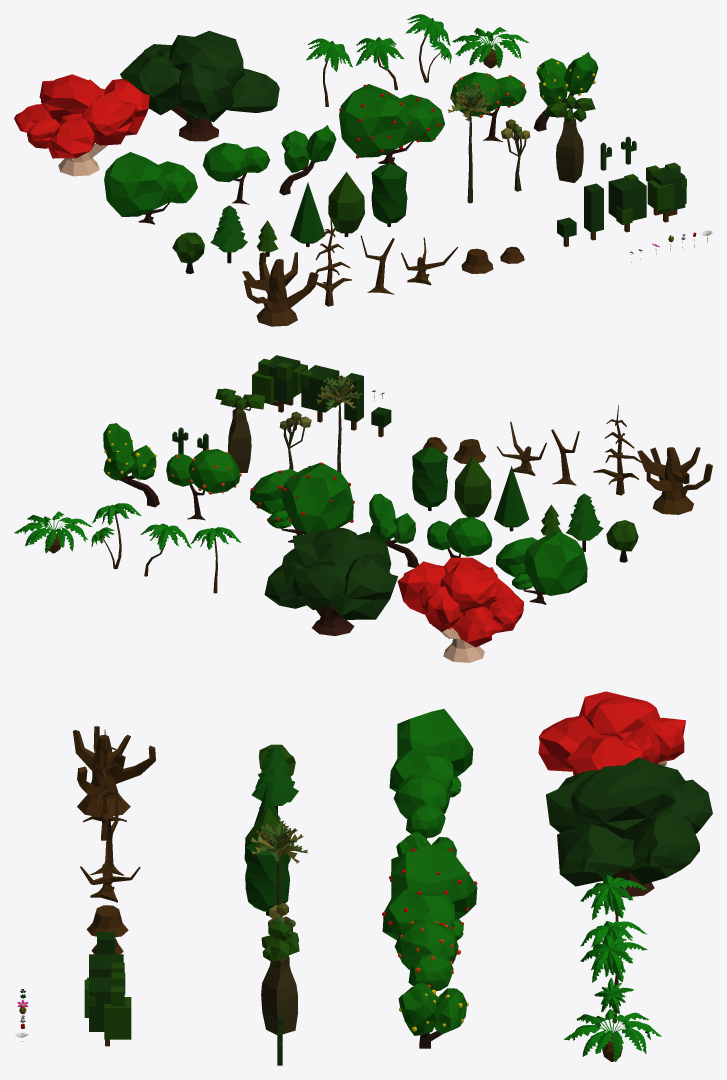
Rendered from Tree+Collection.obj.
3 views of the same model, one above another, from view 1: azimuth 30°, elevation 25°; view 2: azimuth 150°, elevation 25°; view 3: azimuth 270°, elevation 25° (orthographic). The views are drawn at different scales.
Visible parts, largest first — view 1: Large_Tree_02_(Green)_Icosphere.013, Large_Tree_01_(Red)_Icosphere.017, Fruit_Tree_01_-_Red_Plane.1207, Fruitless_Tree_01_Plane.1201, Dry_Tree_01_Icosphere.000, Fruit_Tree_03_-_Yellow_Plane.1208, Baoba_01_Plane.002, Fruitless_Tree_02_Plane.1200, Fruit_Tree_02_-_Orange_Plane.1206, Fruitless_Tree_03_Plane.1202, Casual_Tree_06_Cone.016, Block_Tree_04_Cube.008 (+16 smaller); view 2: Large_Tree_02_(Green)_Icosphere.013, Large_Tree_01_(Red)_Icosphere.017, Fruit_Tree_01_-_Red_Plane.1207, Fruitless_Tree_01_Plane.1201, Fruit_Tree_02_-_Orange_Plane.1206, Dry_Tree_01_Icosphere.000, Fruit_Tree_03_-_Yellow_Plane.1208, Block_Tree_04_Cube.008, Fruitless_Tree_02_Plane.1200, Fruitless_Tree_03_Plane.1202, Casual_Tree_06_Cone.016, Baoba_01_Plane.002 (+16 smaller); view 3: Large_Tree_02_(Green)_Icosphere.013, Large_Tree_01_(Red)_Icosphere.017, Fruit_Tree_01_-_Red_Plane.1207, Fruitless_Tree_01_Plane.1201, Baoba_01_Plane.002, Fruit_Tree_02_-_Orange_Plane.1206, Dry_Tree_01_Icosphere.000, Fruit_Tree_03_-_Yellow_Plane.1208, Block_Tree_04_Cube.008, Fruitless_Tree_02_Plane.1200, Casual_Tree_06_Cone.016, Palm_Tree_04_Cylinder.002 (+10 smaller).
Boxes of the visible parts, left/top/right/bottom form: Large_Tree_02_(Green)_Icosphere.013: left=120, top=30, right=279, bottom=141; Large_Tree_01_(Red)_Icosphere.017: left=14, top=74, right=149, bottom=176; Fruit_Tree_01_-_Red_Plane.1207: left=339, top=84, right=444, bottom=165; Fruitless_Tree_01_Plane.1201: left=104, top=152, right=197, bottom=224; Dry_Tree_01_Icosphere.000: left=242, top=252, right=318, bottom=326; Fruit_Tree_03_-_Yellow_Plane.1208: left=534, top=52, right=598, bottom=131; Baoba_01_Plane.002: left=543, top=95, right=595, bottom=182; Fruitless_Tree_02_Plane.1200: left=202, top=142, right=269, bottom=204; Fruit_Tree_02_-_Orange_Plane.1206: left=450, top=72, right=526, bottom=141; Fruitless_Tree_03_Plane.1202: left=279, top=125, right=336, bottom=195; Casual_Tree_06_Cone.016: left=371, top=163, right=407, bottom=226; Block_Tree_04_Cube.008: left=646, top=162, right=686, bottom=222; Large_Tree_02_(Green)_Icosphere.013: left=264, top=527, right=397, bottom=635; Large_Tree_01_(Red)_Icosphere.017: left=397, top=557, right=523, bottom=662; Fruit_Tree_01_-_Red_Plane.1207: left=250, top=462, right=354, bottom=542; Fruitless_Tree_01_Plane.1201: left=496, top=531, right=587, bottom=604; Fruit_Tree_02_-_Orange_Plane.1206: left=166, top=448, right=241, bottom=520; Dry_Tree_01_Icosphere.000: left=637, top=447, right=712, bottom=514; Fruit_Tree_03_-_Yellow_Plane.1208: left=103, top=423, right=159, bottom=507; Block_Tree_04_Cube.008: left=252, top=355, right=307, bottom=412; Fruitless_Tree_02_Plane.1200: left=427, top=517, right=492, bottom=557; Fruitless_Tree_03_Plane.1202: left=369, top=493, right=418, bottom=567; Casual_Tree_06_Cone.016: left=412, top=447, right=447, bottom=510; Baoba_01_Plane.002: left=215, top=388, right=265, bottom=472; Large_Tree_02_(Green)_Icosphere.013: left=546, top=757, right=712, bottom=897; Large_Tree_01_(Red)_Icosphere.017: left=538, top=691, right=685, bottom=775; Fruit_Tree_01_-_Red_Plane.1207: left=382, top=842, right=477, bottom=940; Fruitless_Tree_01_Plane.1201: left=389, top=709, right=473, bottom=797; Baoba_01_Plane.002: left=261, top=920, right=299, bottom=1034; Fruit_Tree_02_-_Orange_Plane.1206: left=394, top=919, right=460, bottom=991; Dry_Tree_01_Icosphere.000: left=73, top=726, right=155, bottom=816; Fruit_Tree_03_-_Yellow_Plane.1208: left=398, top=982, right=468, bottom=1048; Block_Tree_04_Cube.008: left=84, top=972, right=131, bottom=1046; Fruitless_Tree_02_Plane.1200: left=393, top=774, right=449, bottom=839; Casual_Tree_06_Cone.016: left=245, top=835, right=289, bottom=915; Palm_Tree_04_Cylinder.002: left=564, top=1009, right=661, bottom=1061.
Bounding box in the file's own units: 32.03 × 7.03 × 31.28.
